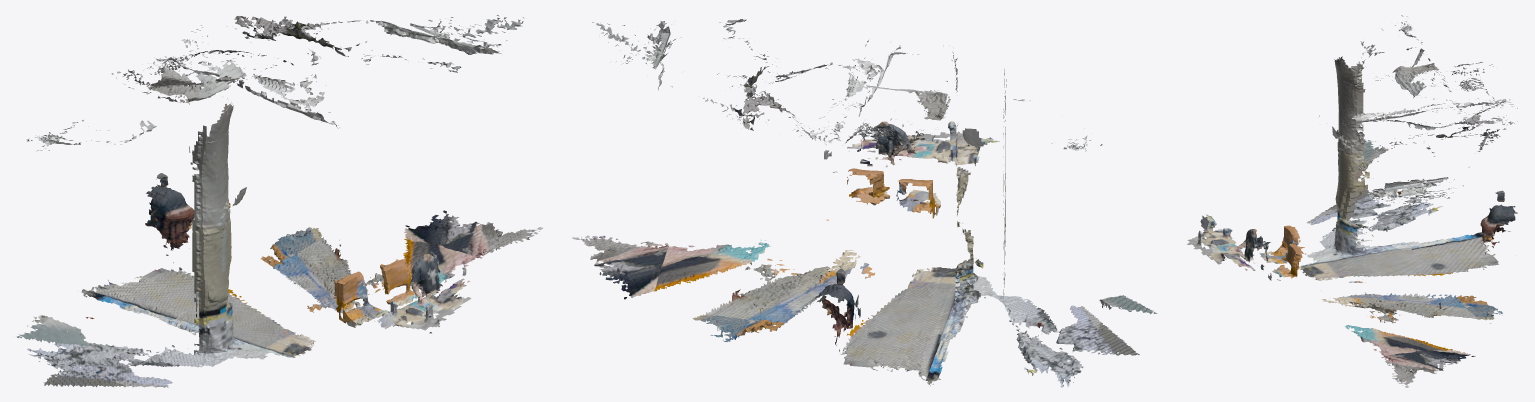
Rendered from world.glb.
3 renders of one model, left to right at view 1: azimuth 30°, elevation 25°; view 2: azimuth 150°, elevation 25°; view 3: azimuth 270°, elevation 25°, orthographic. The views are drawn at different scales.
Visible parts, largest first — view 1: world; view 2: world; view 3: world.
Boxes of the visible parts, x1,y1,x2,y2 form: world: (17,15,542,387); world: (572,19,1157,387); world: (1187,15,1517,387).
Size of the model in its own units: 8.27 by 3.91 by 5.44.
